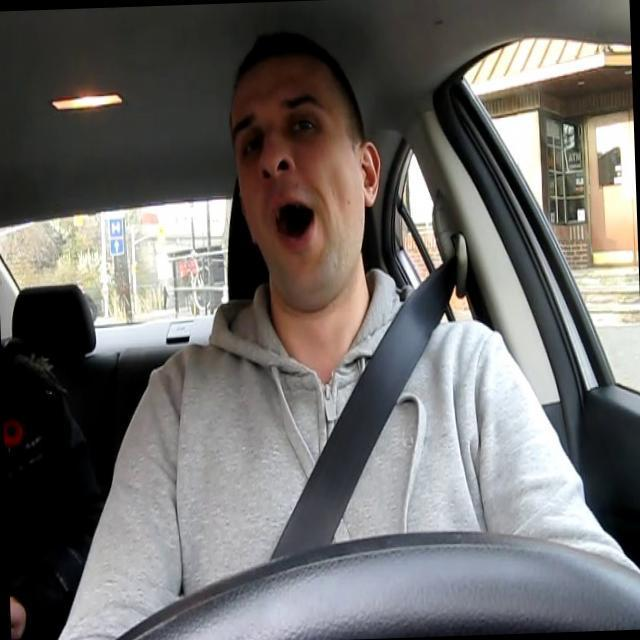open-mouth: (267, 194, 320, 258)
